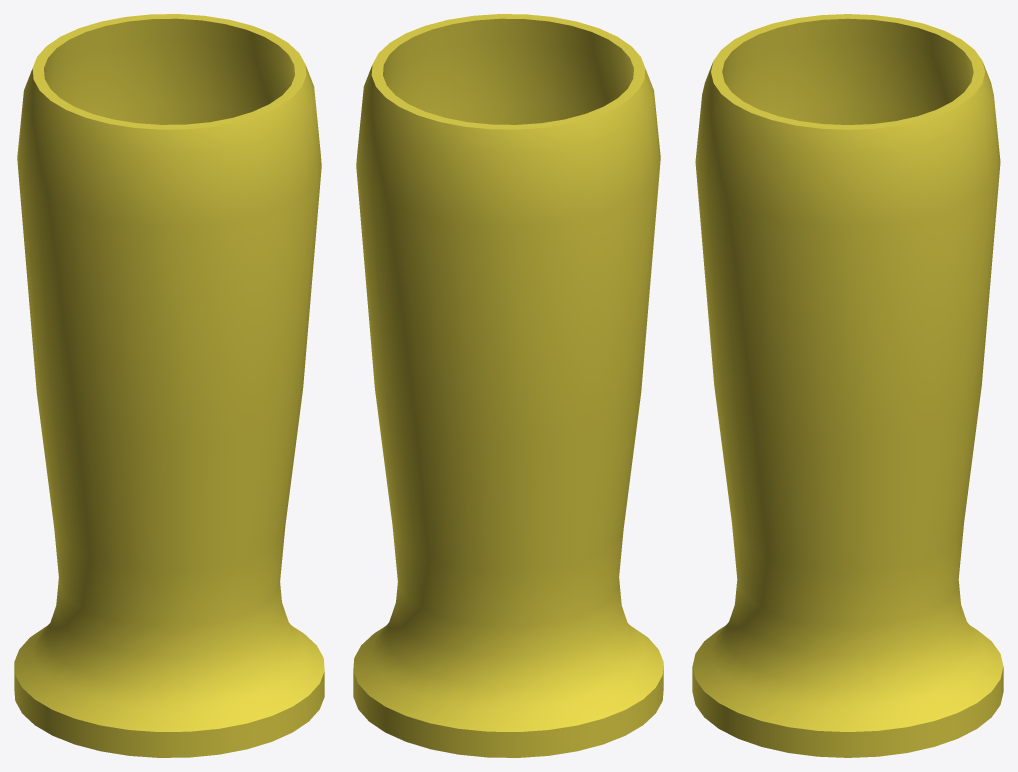
Rendered from beer-cup.glb.
3 renders of one model, left to right at view 1: azimuth 30°, elevation 25°; view 2: azimuth 150°, elevation 25°; view 3: azimuth 270°, elevation 25°, orthographic.
Visible parts, largest first — view 1: BeerCup; view 2: BeerCup; view 3: BeerCup.
Part boxes in pixels (box(x1,y1,x2,y2)): BeerCup: box(14, 14, 324, 757); BeerCup: box(353, 14, 663, 757); BeerCup: box(692, 14, 1003, 757).
Size of the model in its own units: 0.2111 by 0.4646 by 0.2111.
